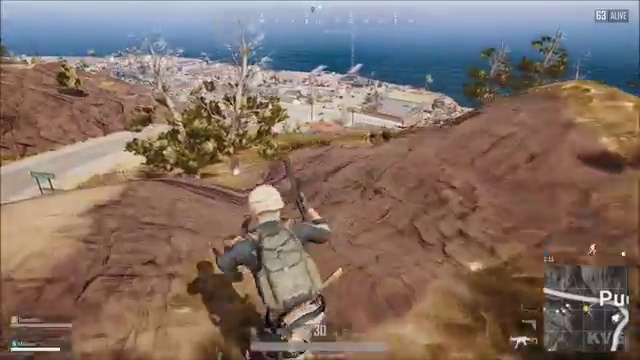Player: (199, 158, 376, 323)
